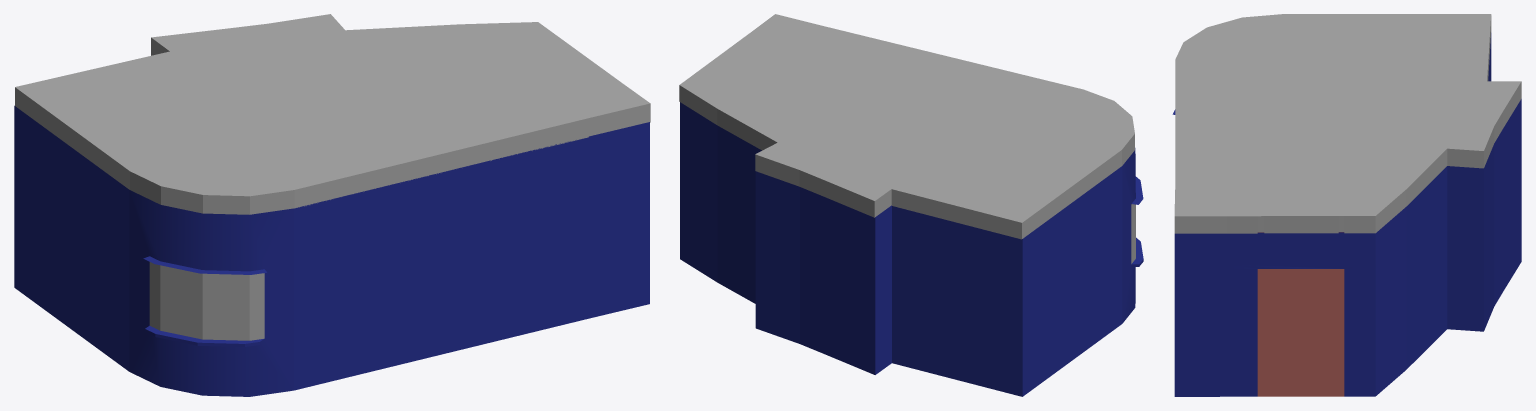
File: KamerKind.fbx
The picture shows the model from 3 angles, left to right: view 1: azimuth 30°, elevation 25°; view 2: azimuth 150°, elevation 25°; view 3: azimuth 270°, elevation 25°; orthographic projection. The views are drawn at different scales.
Parts seen in each view (by area): view 1: KamerKind, KamerKind1; view 2: KamerKind, KamerKind1; view 3: KamerKind1, KamerKind.
Part boxes in pixels (box(x1,y1,x2,y2)): KamerKind: box(14, 105, 649, 396); KamerKind1: box(15, 14, 650, 214); KamerKind: box(680, 102, 1143, 396); KamerKind1: box(679, 14, 1134, 239); KamerKind1: box(1174, 14, 1521, 233); KamerKind: box(1172, 33, 1521, 396).
Size of the model in its own units: 1659 by 686 by 1201.
